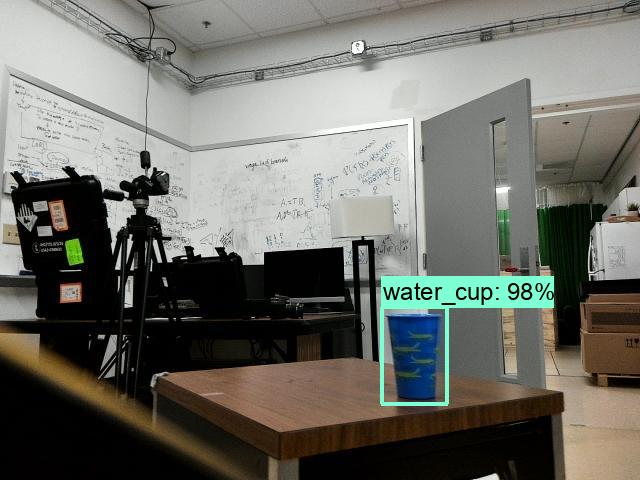water_cup: (383, 309, 450, 401)
